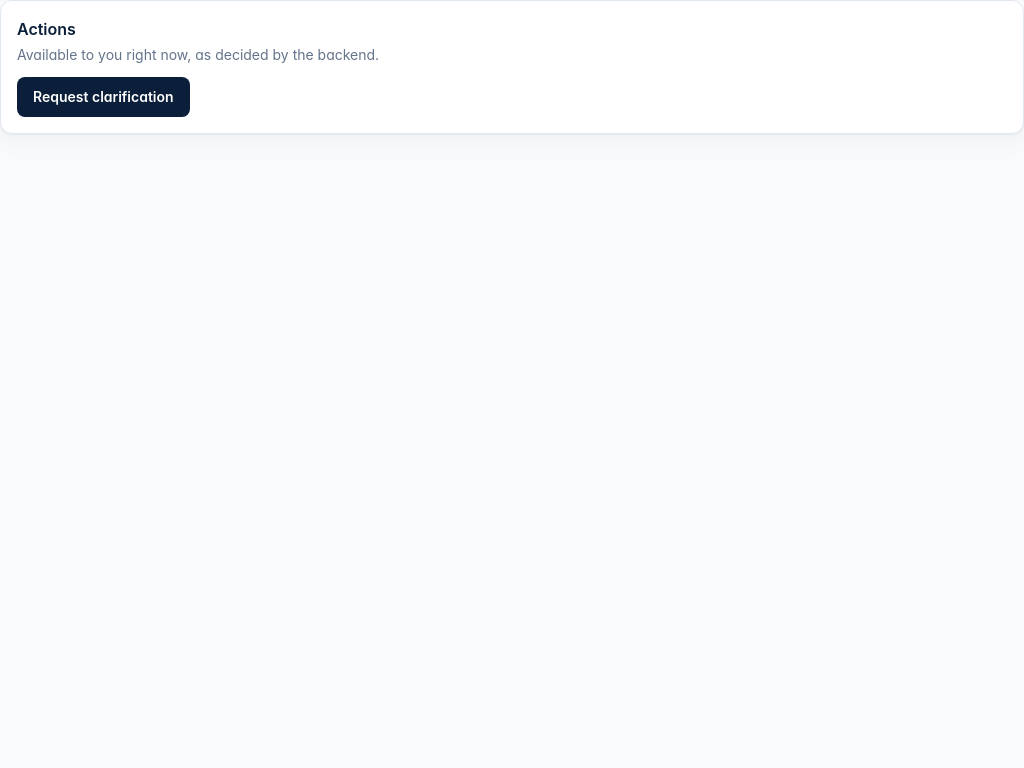
ActionBar › requires a reason for clarification and sends it to the backend
Later steps or results of the test are not shown.
Step 1. Click the button "Request clarification" → (103, 97), box [17, 77, 190, 117]
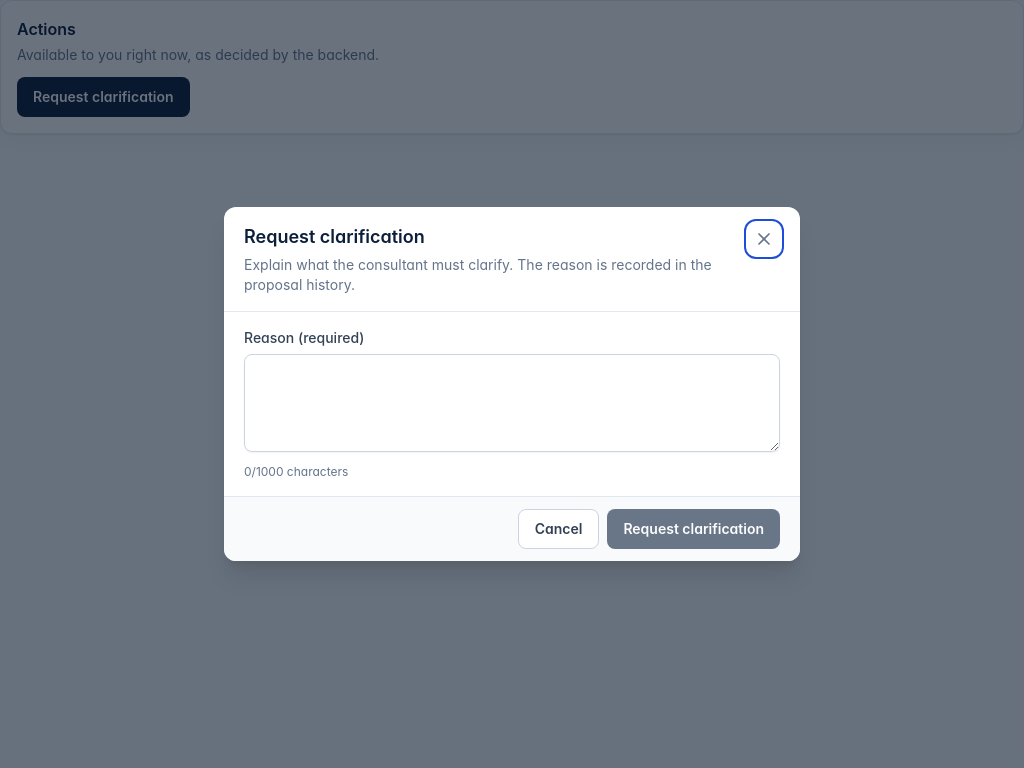
Expected: the button "Request clarification" is disabled, [607, 509, 780, 549]
Step 2. Type "Please attach the land schedule." into the text box labelled "Reason (required)" → (512, 403), box [244, 354, 780, 452]
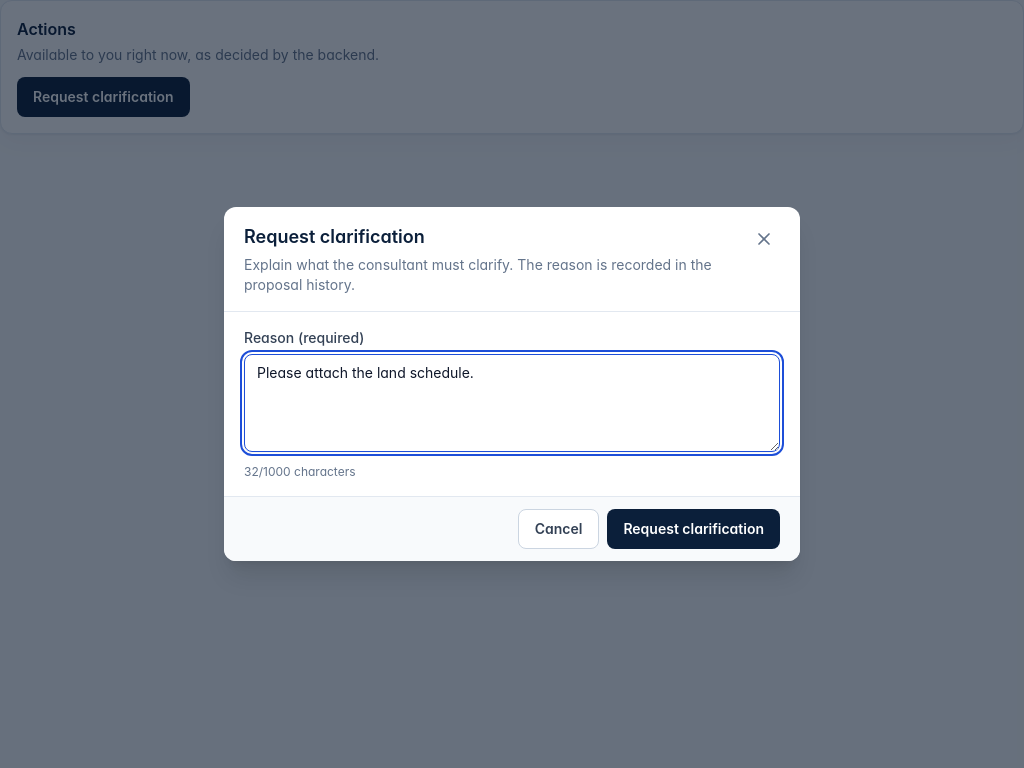
Expected: the button "Request clarification" is enabled, [607, 509, 780, 549]
